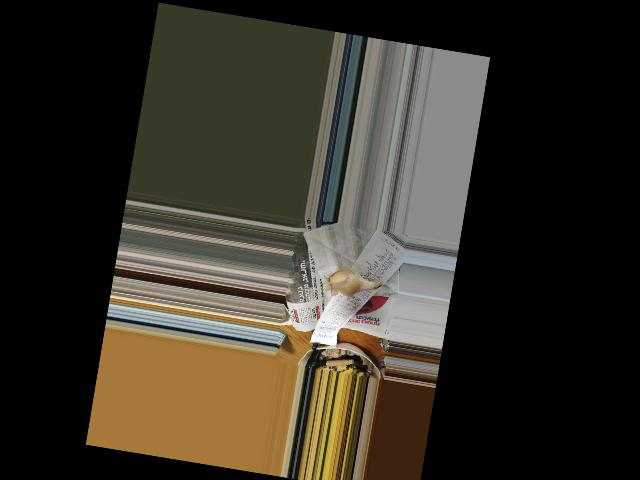onion: (325, 265, 377, 301)
